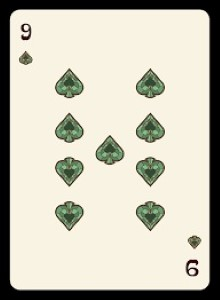NineOfSpades: (9, 3, 212, 291)
